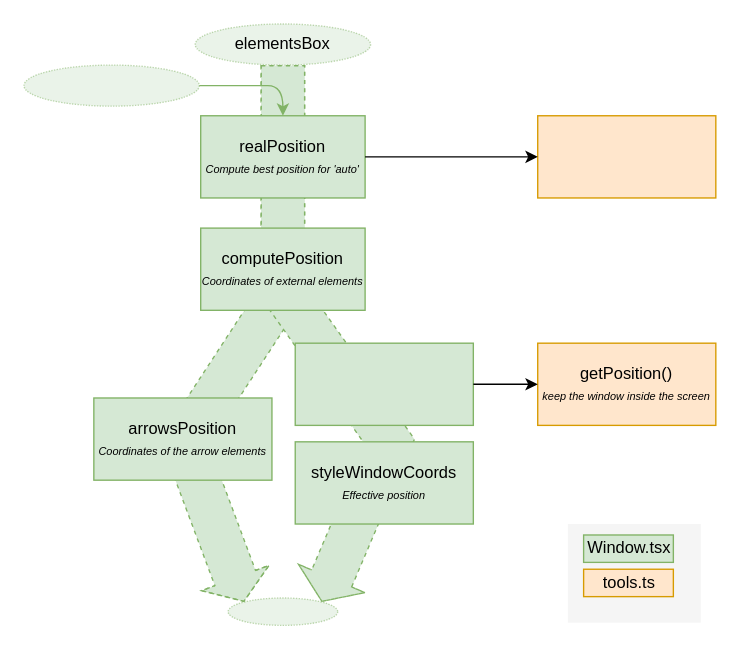
Some shapes in this 740 by 649 pixel diagram are drawn without their labels. Here are the shapes that lost their labels. From the top down, the box of each, then its label:
(23, 64, 199, 106): position
(536, 114, 716, 198): getAutoPlacement() keep the window inside the screen
(294, 342, 473, 425): windowPlacement Coordinates of the window element
(227, 597, 338, 625): Render
